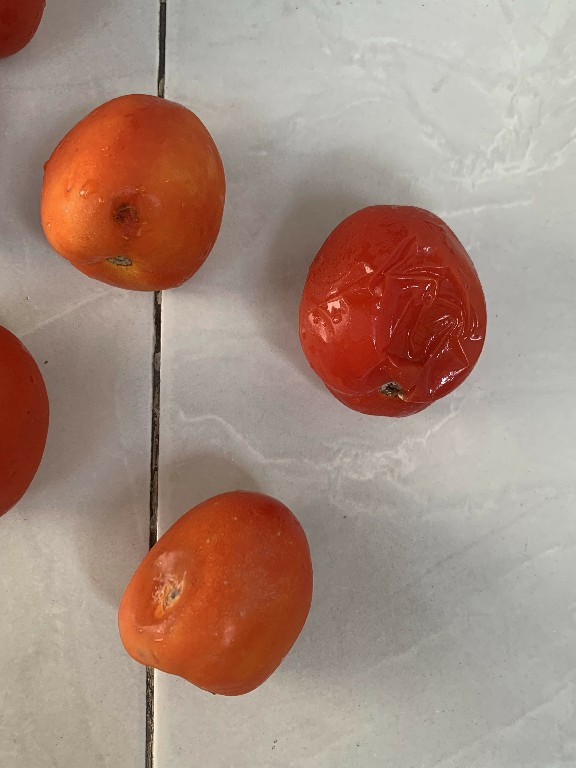NG: (110, 481, 326, 709), (31, 84, 241, 303), (296, 200, 494, 428)
